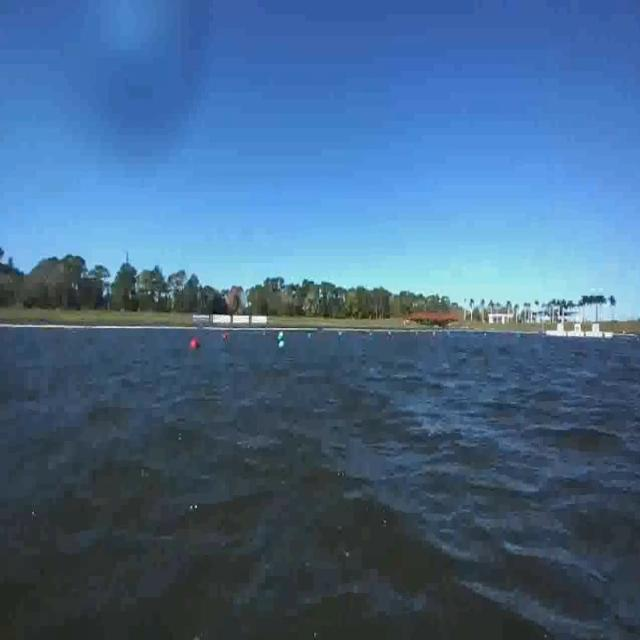green-buoy: (278, 336, 286, 356)
red-buoy: (190, 338, 198, 352)
